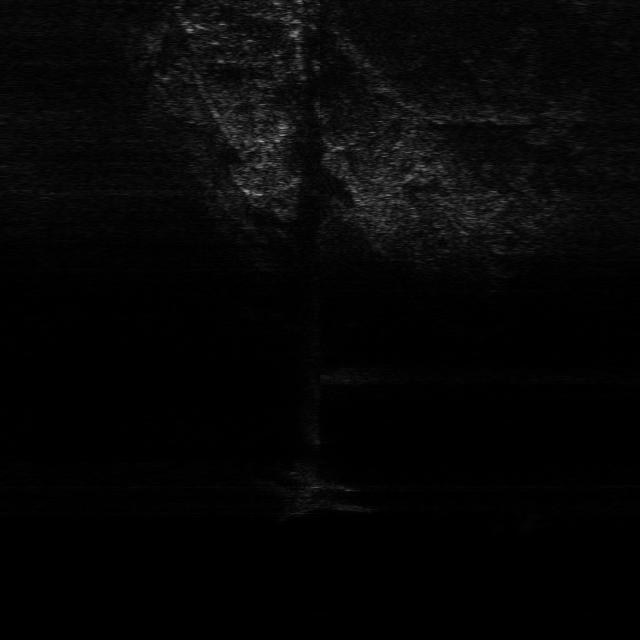plane: (256, 465, 378, 518)
